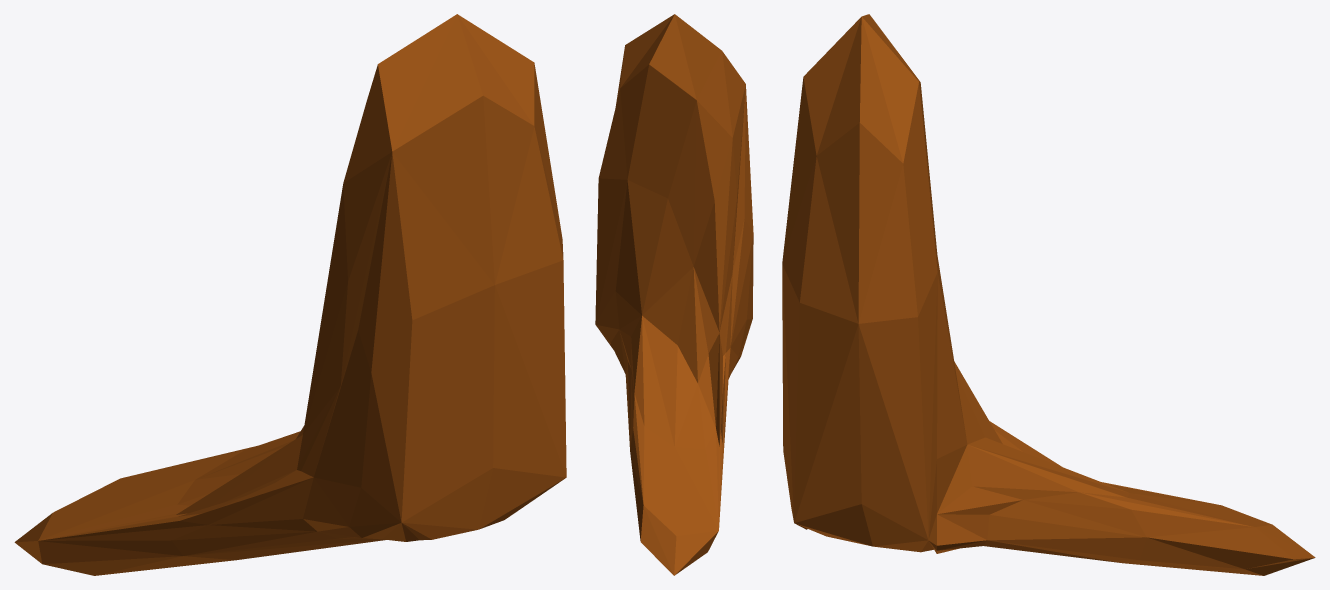
The picture shows the model from 3 angles, left to right: view 1: azimuth 30°, elevation 25°; view 2: azimuth 150°, elevation 25°; view 3: azimuth 270°, elevation 25°; orthographic projection. The views are drawn at different scales.
Visible parts, largest first — view 1: 647_Cube.2601; view 2: 647_Cube.2601; view 3: 647_Cube.2601.
Part boxes in pixels (x1,y1,x2,y2): 647_Cube.2601: [14, 14, 566, 575]; 647_Cube.2601: [595, 14, 753, 575]; 647_Cube.2601: [782, 14, 1315, 575].
Bounding box in the file's own units: 8.75 × 15.35 × 11.4.
